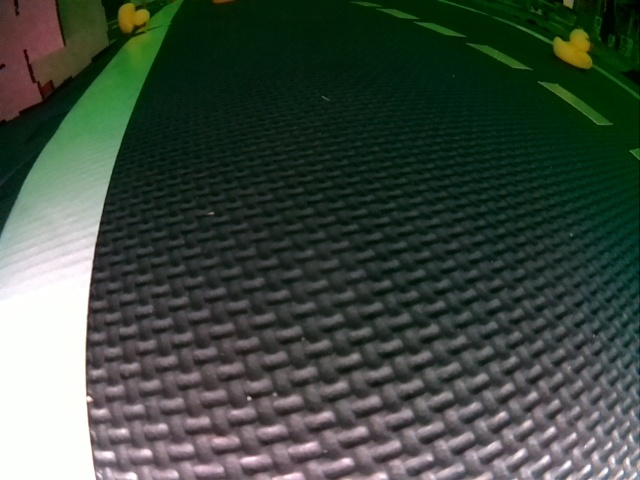Duckie: (553, 28, 593, 69), (118, 4, 149, 35)
